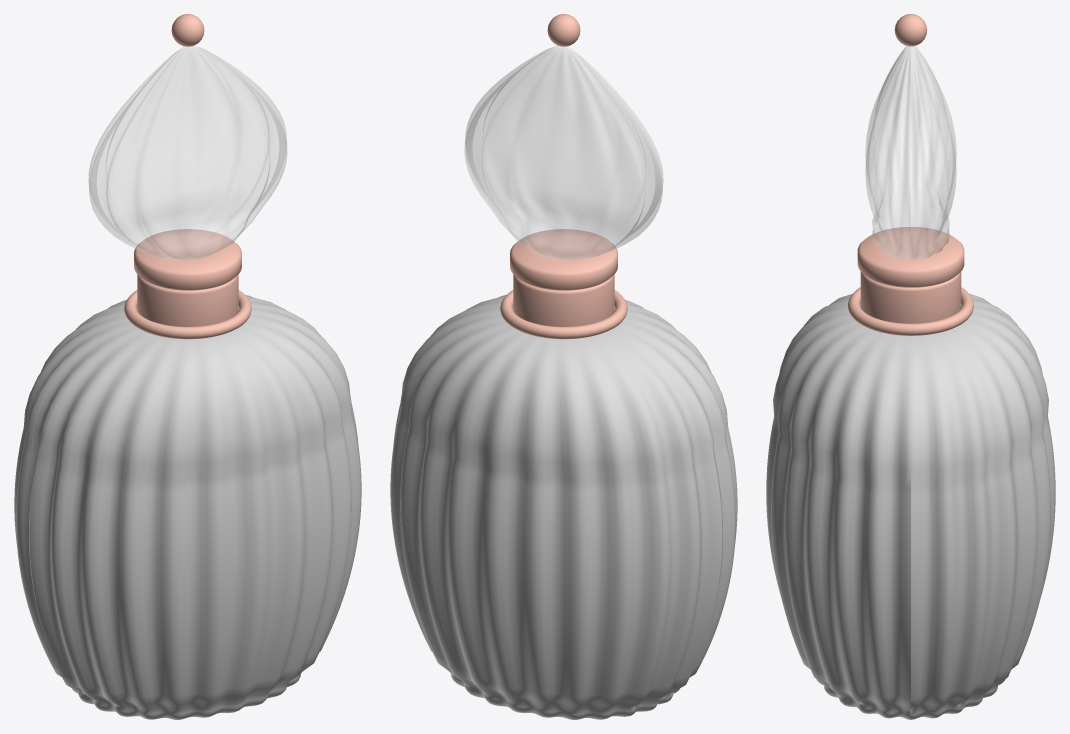
Rendered from ornate-versailles.glb.
3 views of the same model, side by side, from view 1: azimuth 30°, elevation 25°; view 2: azimuth 150°, elevation 25°; view 3: azimuth 270°, elevation 25° (orthographic).
Visible parts, largest first — view 1: Glass_Body, Stopper, Stopper_Base, Collar, Collar_BeadRing, Stopper_Finial; view 2: Glass_Body, Stopper, Stopper_Base, Collar, Collar_BeadRing, Stopper_Finial; view 3: Glass_Body, Stopper, Stopper_Base, Collar, Collar_BeadRing, Stopper_Finial.
Part boxes in pixels (box(x1,y1,x2,y2)): Glass_Body: box(14, 294, 361, 719); Stopper: box(88, 45, 287, 260); Stopper_Base: box(134, 229, 241, 290); Collar: box(137, 274, 238, 326); Collar_BeadRing: box(124, 290, 251, 339); Stopper_Finial: box(171, 14, 204, 46); Glass_Body: box(390, 294, 737, 719); Stopper: box(464, 45, 663, 260); Stopper_Base: box(510, 229, 617, 290); Collar: box(513, 274, 614, 326); Collar_BeadRing: box(500, 290, 627, 339); Stopper_Finial: box(547, 14, 580, 46); Glass_Body: box(766, 294, 1055, 719); Stopper: box(865, 46, 956, 259); Stopper_Base: box(857, 227, 964, 287); Collar: box(860, 271, 961, 323); Collar_BeadRing: box(848, 287, 973, 335); Stopper_Finial: box(894, 14, 927, 46).
Bounding box in the file's own units: 0.0712 × 0.1426 × 0.0569.
